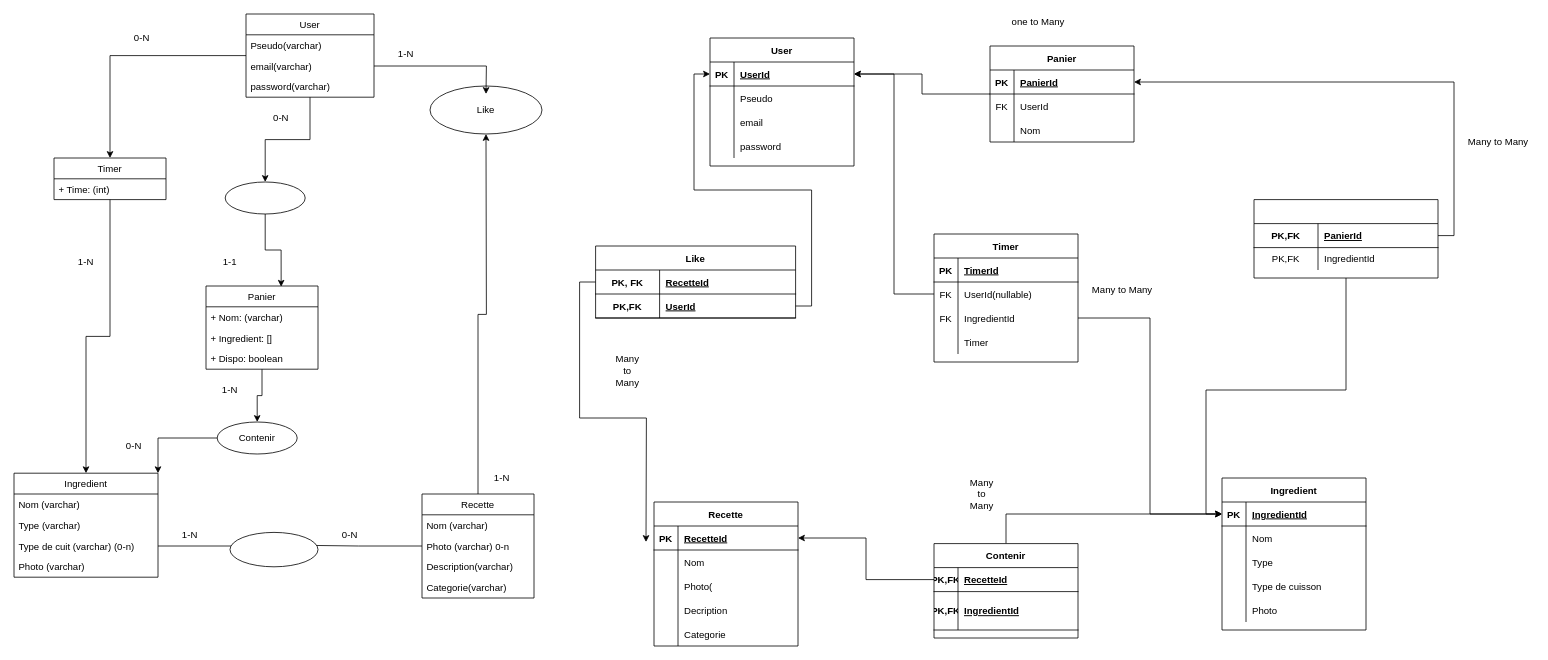
The diagram is 1548 pixels wide and 660 high, and some of its shapes have lost their labels. Each missing label, with the box of its shape:
avoir: (224, 181, 305, 214)
Contient: (229, 532, 318, 567)
Englober: (1253, 199, 1438, 278)
